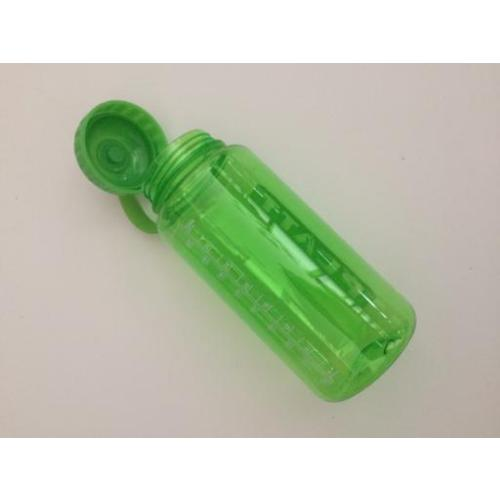plastic: (143, 130, 419, 403)
